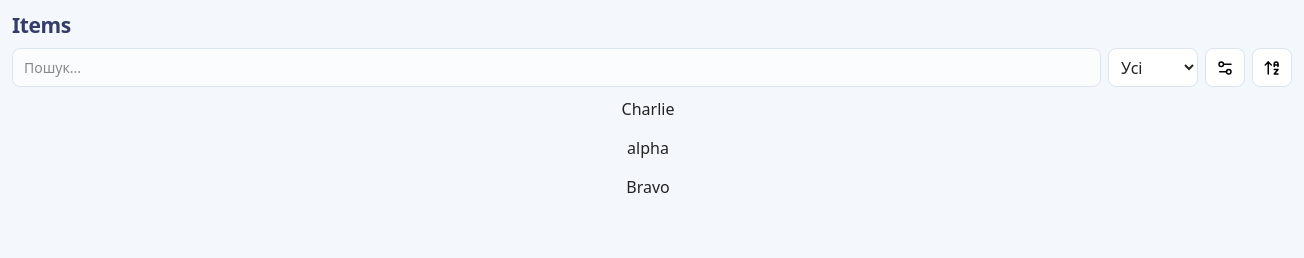
Test case: PaginatedSearchableList › toggles sort menu visibility
The width and height of the screenshot is (1304, 258).
Click the button titled "Сортувати за полем" at (1225, 68), box [1205, 48, 1245, 87]
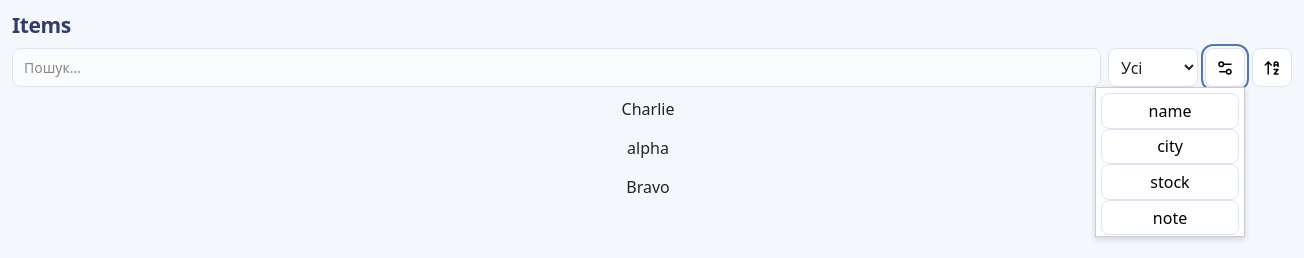
Expected: the button "stock" is shown, [1101, 164, 1239, 200]
Click the button titled "Сортувати за полем" at (1225, 68), box [1205, 48, 1245, 87]
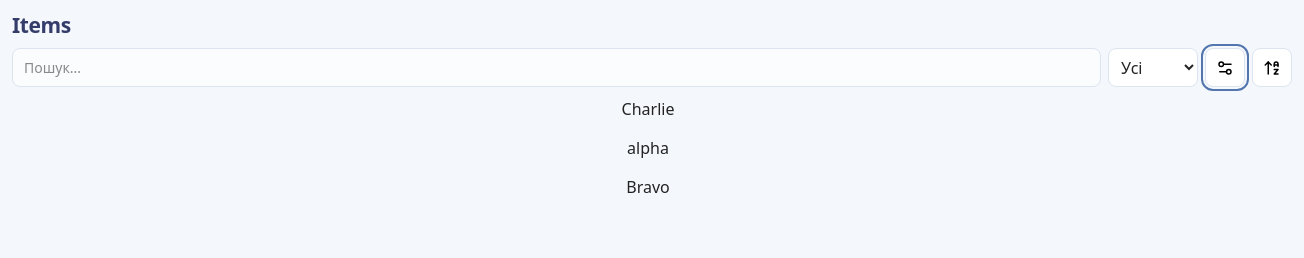
Expected: the button "stock" is gone
